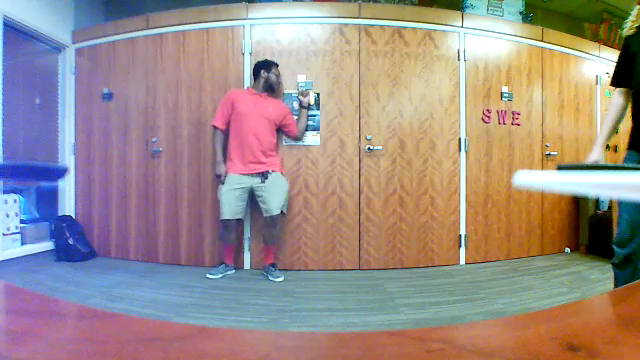up: (294, 81, 312, 108)
